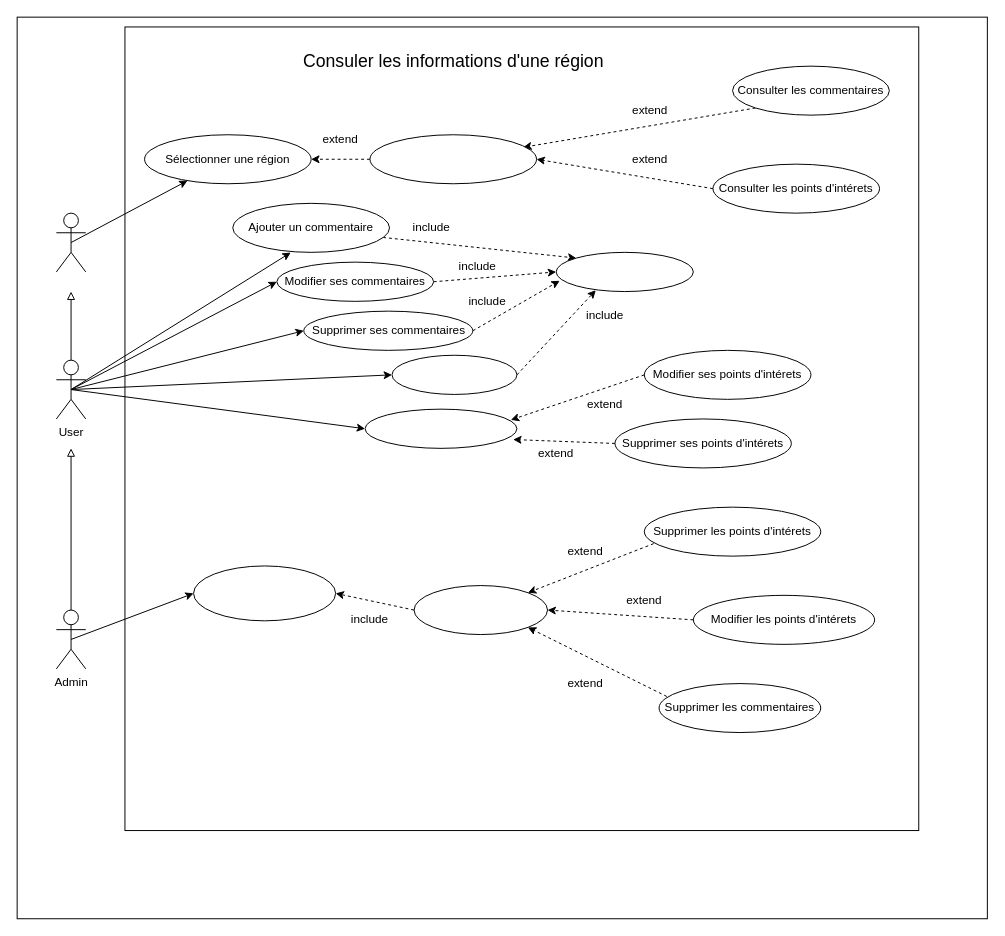
Some shapes in this 1005 by 936 pixel diagram are drawn without their labels. The centre of each missing label's shape, as x and y in pixels:
Ajouter un point d'intéret: (x=440, y=428)
Authentification: (x=624, y=271)
Authentification Admin: (x=264, y=593)
coche "visité": (x=454, y=374)
Consulter les informations: (x=453, y=159)
Modifier une région: (x=480, y=610)
Visitor: (x=70, y=242)
